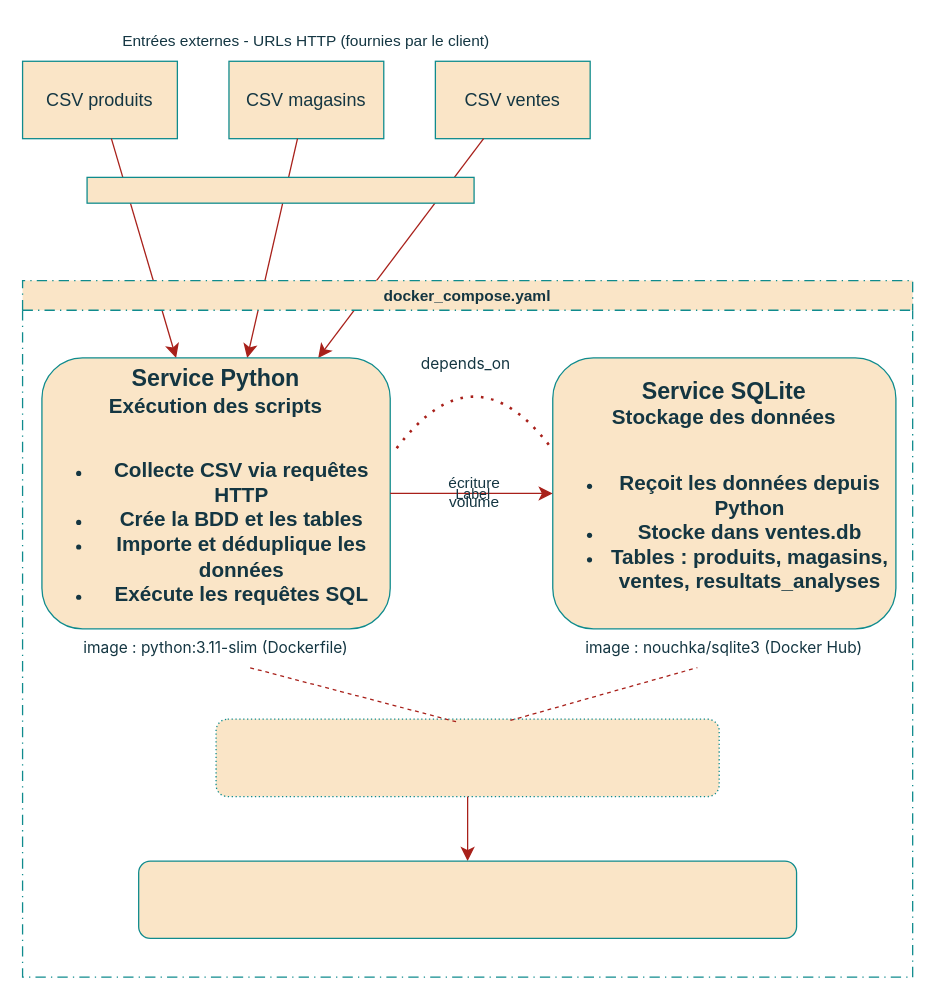
Some shapes in this 935 by 1000 pixel diagram are drawn without their labels. The centre of each missing label's shape, as x and y in pixels:
"port 443 (HTTPS)" goes at point (280, 189).
"Sortie - résultats stockés dans resultats_analyses" goes at point (467, 899).
"Volume partagé./data pas de port - accés fichier direct (ventes.db)" goes at point (467, 757).
